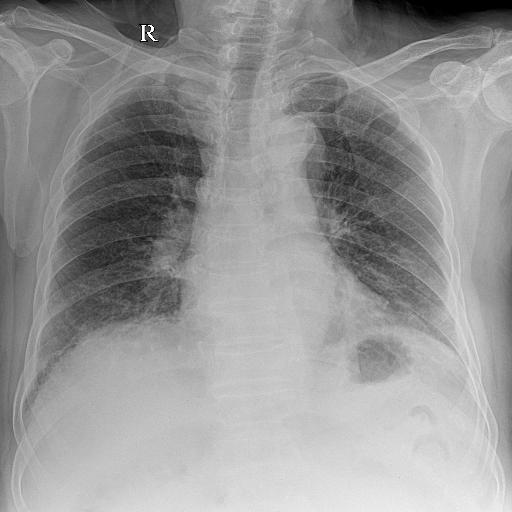Aortic enlargement: (136, 54, 270, 160)
Calcification: (262, 88, 304, 136)
ILD: (180, 0, 374, 223), (0, 0, 116, 231), (324, 232, 416, 300)
Pulmonary fibrosis: (0, 278, 57, 346)
